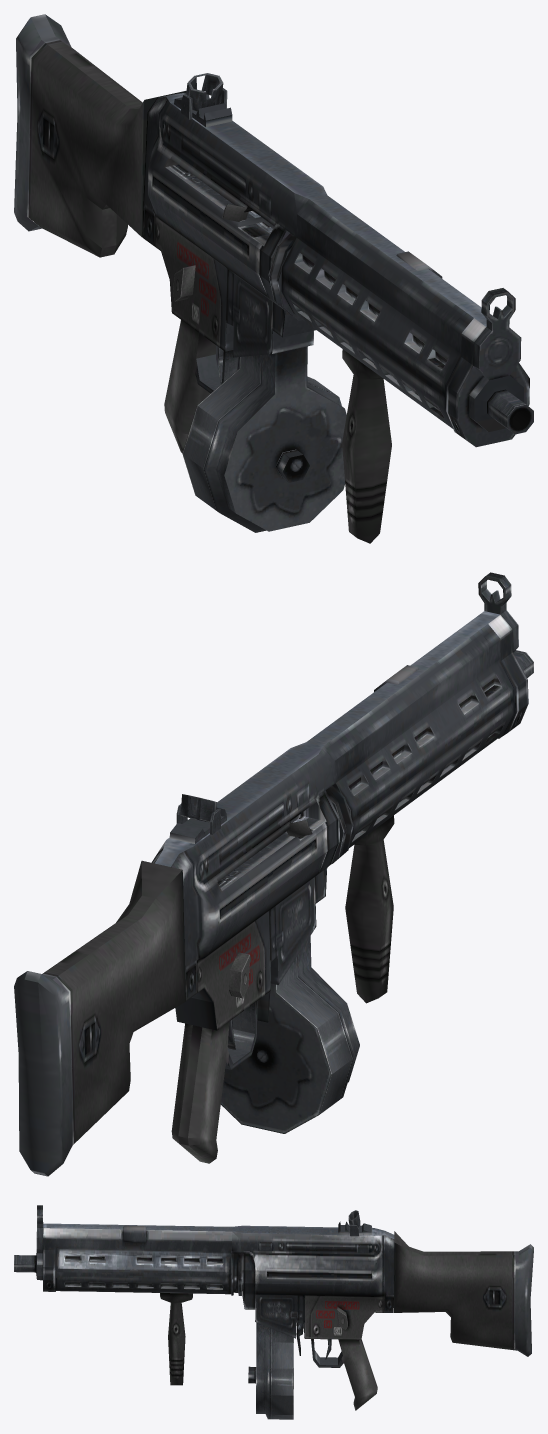
The model's file is hkg8_obj.FBX.
3 views of the same model, one above another, from view 1: azimuth 30°, elevation 25°; view 2: azimuth 150°, elevation 25°; view 3: azimuth 270°, elevation 25° (orthographic). The views are drawn at different scales.
Visible parts, largest first — view 1: hkg8_obj; view 2: hkg8_obj; view 3: hkg8_obj.
Boxes of the visible parts, bbox=[...] form: hkg8_obj: bbox=[14, 14, 533, 543]; hkg8_obj: bbox=[14, 572, 533, 1176]; hkg8_obj: bbox=[14, 1205, 533, 1419].
Size of the model in its own units: 3 by 17.71 by 7.79.
